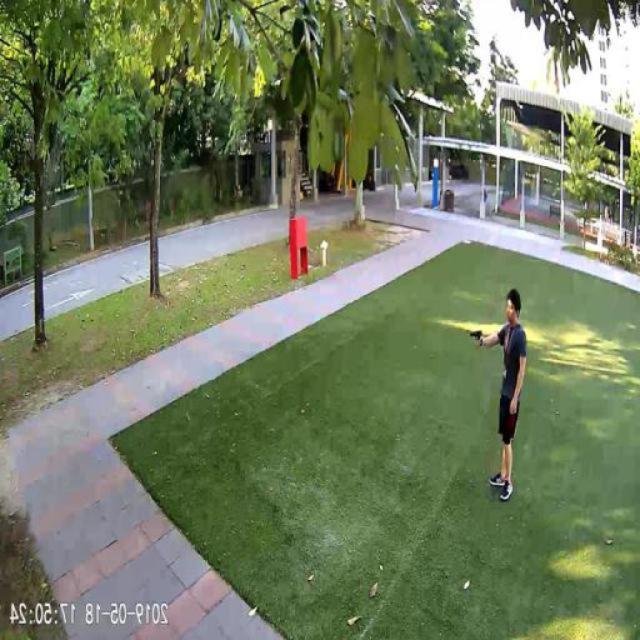pistol: (471, 326, 485, 346)
